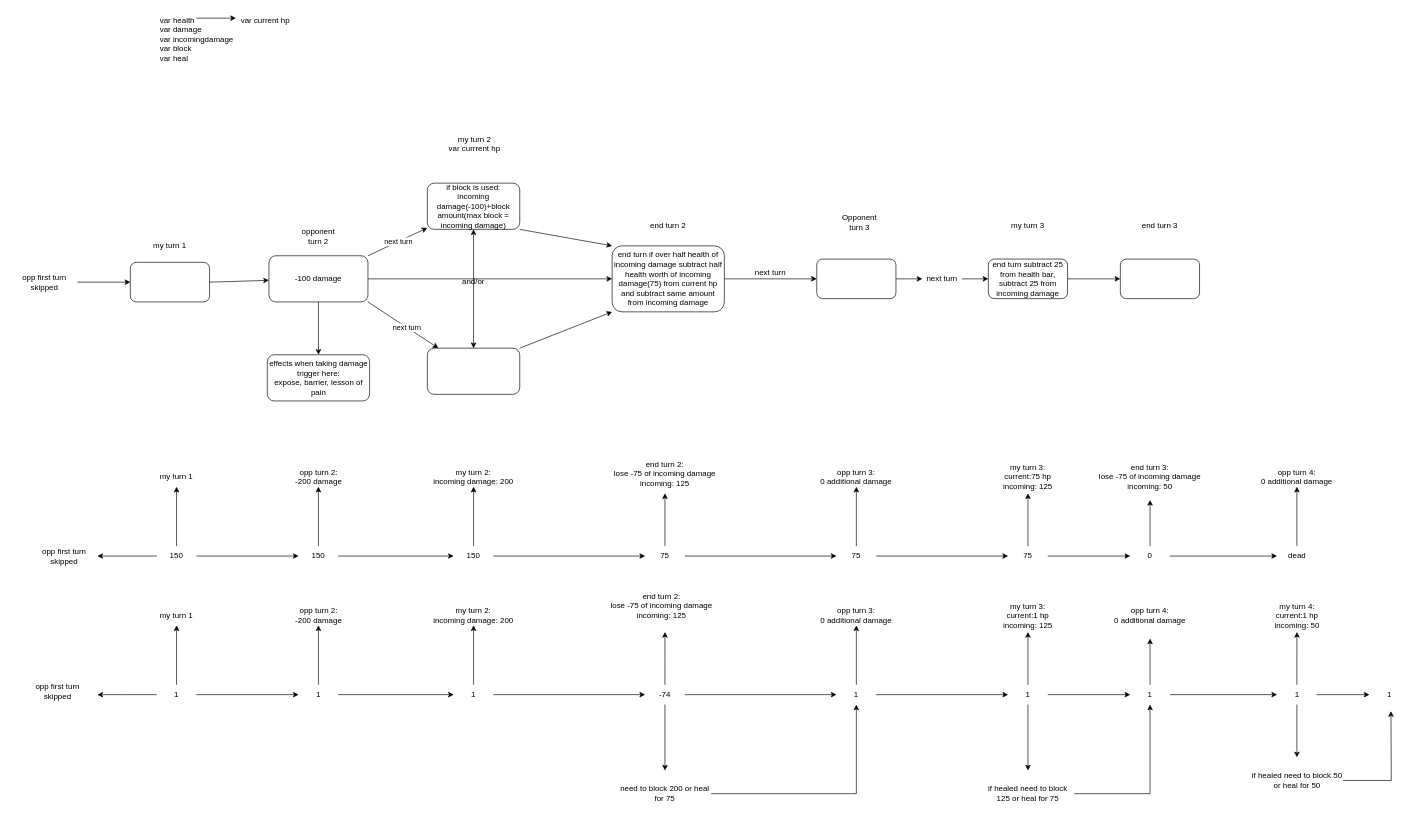
The diagram is 1420 pixels wide and 828 high, and some of its shapes have lost their labels. Here are the shapes that lost their labels. From the top down, the centre of each, then its label:
At (170,282): "max 150 health current 100 hp".
At (856,278): "25 left over of incoming damage".
At (473,370): "if heal is used, current hp(100 hp) + heal amount(max heal=max health)".
